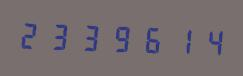four: (191, 22, 219, 59)
nine: (104, 19, 132, 56)
one: (162, 21, 190, 58)
six: (133, 20, 161, 57)
three: (46, 17, 74, 54), (75, 18, 103, 55)
two: (17, 16, 45, 53)
